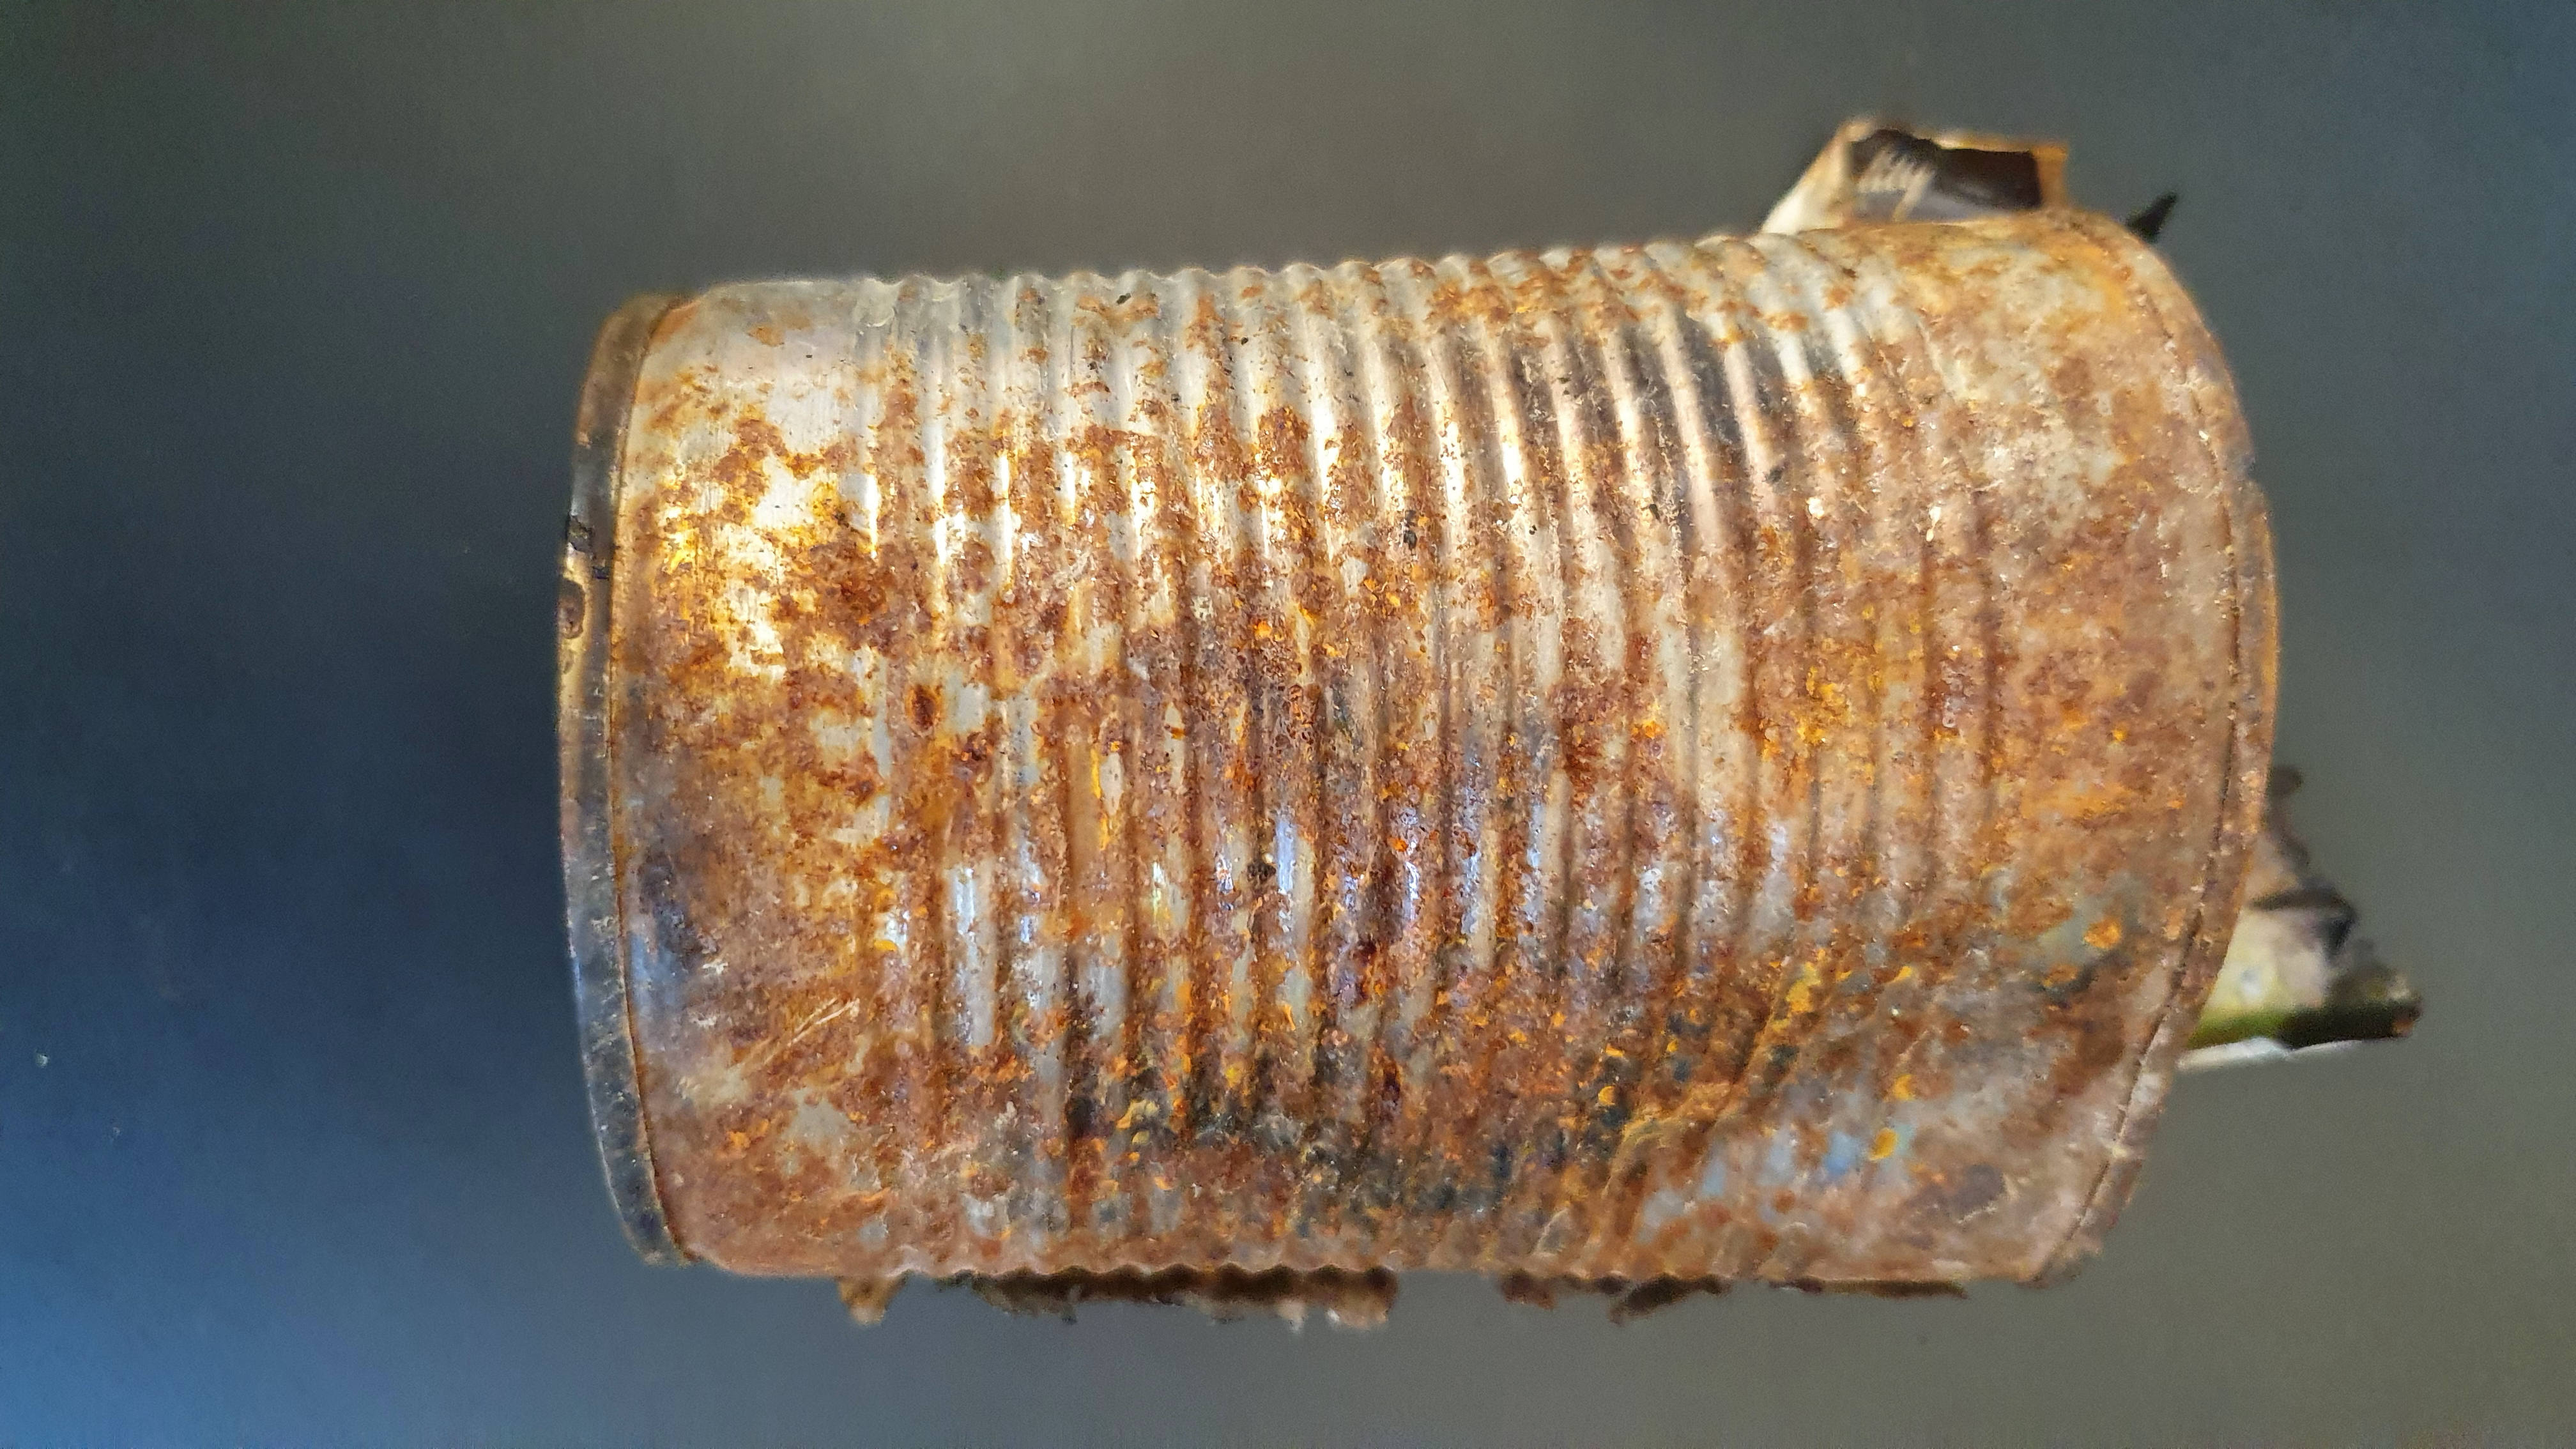metal: (501, 80, 2443, 1371)
